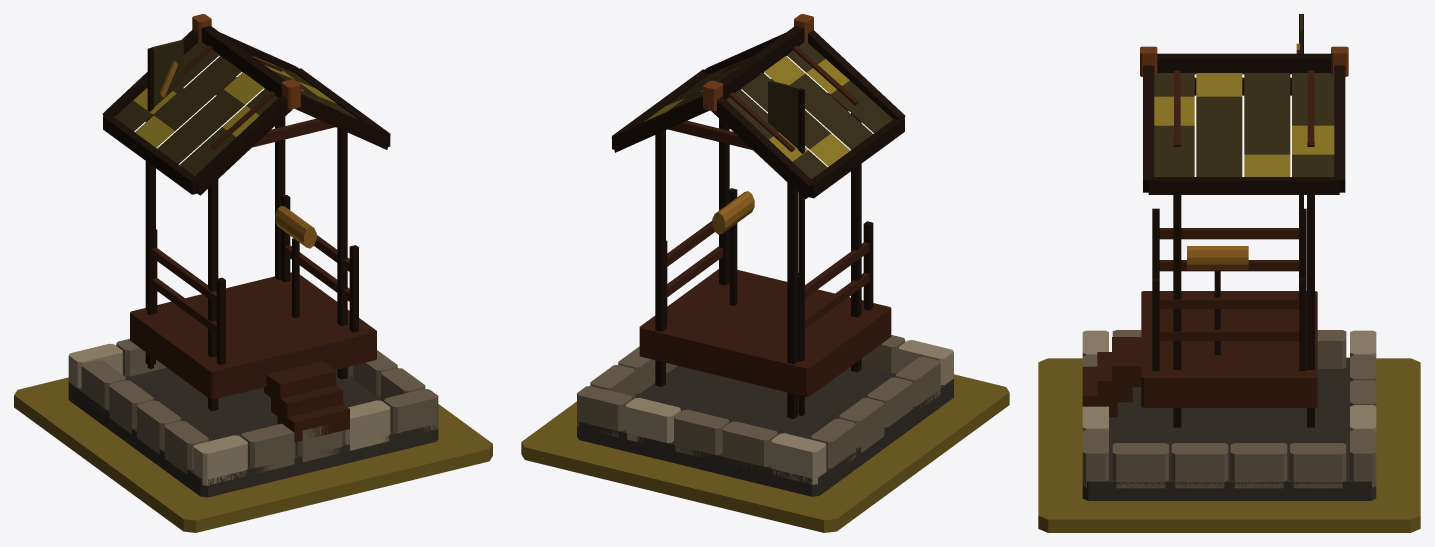
File: scout_post_t3.glb
The picture shows the model from 3 angles, left to right: view 1: azimuth 30°, elevation 25°; view 2: azimuth 150°, elevation 25°; view 3: azimuth 270°, elevation 25°; orthographic projection. The views are drawn at different scales.
Parts seen in each view (by area): view 1: MMR | scout_post | T03 Architecture.001, MMR | scout_post | Tier 03 Ground.001; view 2: MMR | scout_post | T03 Architecture.001, MMR | scout_post | Tier 03 Ground.001; view 3: MMR | scout_post | T03 Architecture.001, MMR | scout_post | Tier 03 Ground.001.
Boxes of the visible parts, x1=… form: MMR | scout_post | T03 Architecture.001: x1=68, y1=14, x2=438, y2=497; MMR | scout_post | Tier 03 Ground.001: x1=14, y1=377, x2=492, y2=532; MMR | scout_post | T03 Architecture.001: x1=577, y1=14, x2=953, y2=496; MMR | scout_post | Tier 03 Ground.001: x1=521, y1=374, x2=1009, y2=532; MMR | scout_post | T03 Architecture.001: x1=1082, y1=14, x2=1376, y2=500; MMR | scout_post | Tier 03 Ground.001: x1=1038, y1=358, x2=1420, y2=532.
Size of the model in its own units: 1.3 by 1.51 by 1.3.
1 material, 1 textured.
